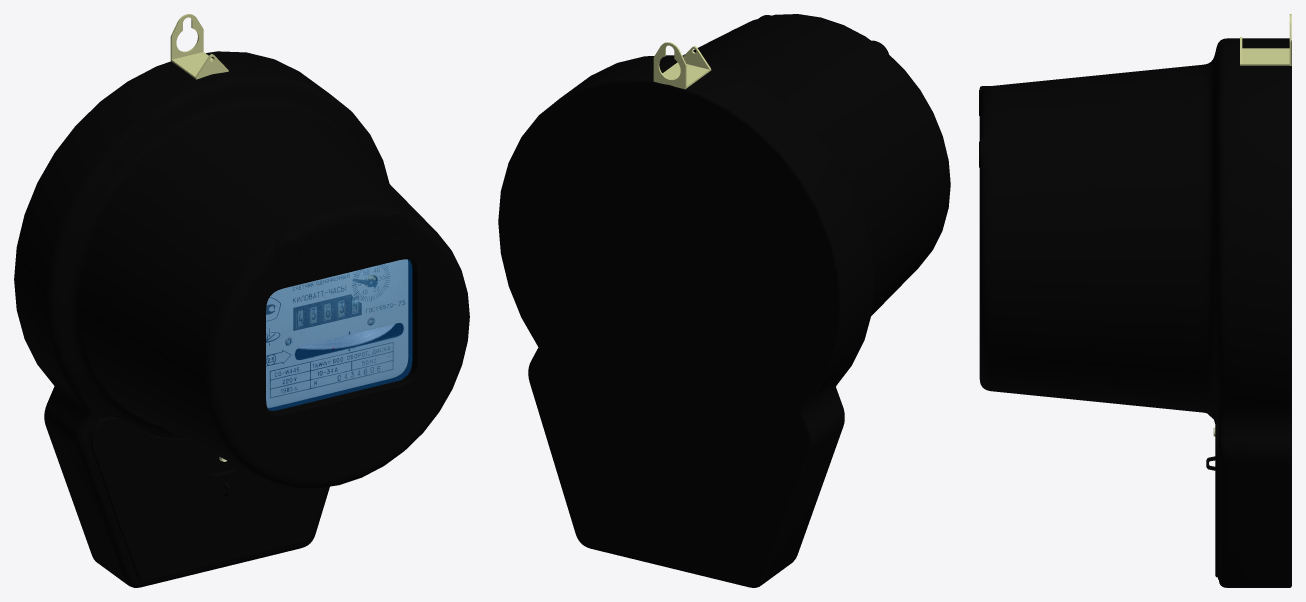
File: a_soviet_electricity_meter.glb
3 renders of one model, left to right at view 1: azimuth 30°, elevation 25°; view 2: azimuth 150°, elevation 25°; view 3: azimuth 270°, elevation 25°, orthographic.
Visible parts, largest first — view 1: Cylinder001_main_body_0, Shape001, glas_glas_0, plate_counter_plate_0, Line005_upper hook_0, disc_disc_0; view 2: Cylinder001_main_body_0, Line005_upper hook_0; view 3: Cylinder001_main_body_0, Line005_upper hook_0, Shape001.
Part boxes in pixels (x1=…): Cylinder001_main_body_0: x1=14, y1=51, x2=469, y2=587; Shape001: x1=88, y1=417, x2=326, y2=583; glas_glas_0: x1=266, y1=259, x2=412, y2=410; plate_counter_plate_0: x1=266, y1=259, x2=408, y2=407; Line005_upper hook_0: x1=170, y1=14, x2=228, y2=79; disc_disc_0: x1=298, y1=324, x2=394, y2=349; Cylinder001_main_body_0: x1=498, y1=14, x2=950, y2=587; Line005_upper hook_0: x1=653, y1=42, x2=711, y2=89; Cylinder001_main_body_0: x1=979, y1=38, x2=1291, y2=587; Line005_upper hook_0: x1=1240, y1=14, x2=1291, y2=65; Shape001: x1=1215, y1=419, x2=1218, y2=579.
Bounding box in the file's own units: 0.6455 × 0.9417 × 0.5023.
Materials: 7 (2 with a texture image).
